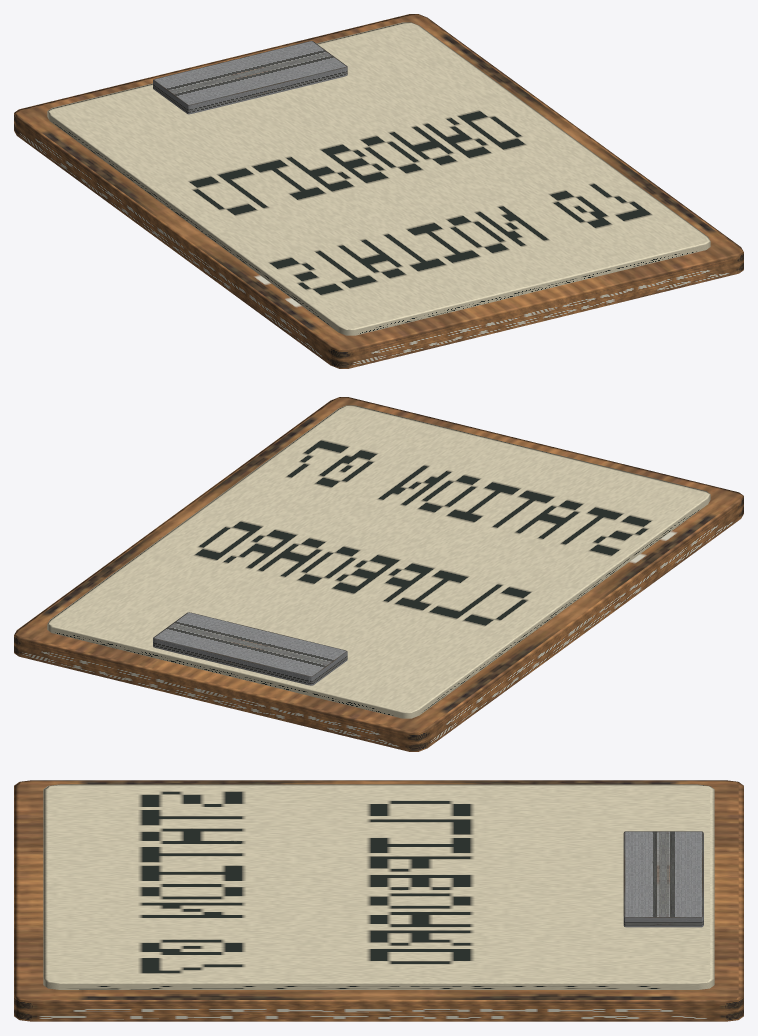
File: clipboard.glb
3 views of the same model, one above another, from view 1: azimuth 30°, elevation 25°; view 2: azimuth 150°, elevation 25°; view 3: azimuth 270°, elevation 25° (orthographic). The views are drawn at different scales.
Parts seen in each view (by area): view 1: log, board, clip; view 2: log, board, clip; view 3: log, board, clip.
Boxes of the visible parts, bbox=[...] form: log: bbox=[47, 22, 710, 335]; board: bbox=[14, 14, 743, 368]; clip: bbox=[153, 41, 347, 114]; log: bbox=[47, 405, 710, 718]; board: bbox=[14, 397, 743, 751]; clip: bbox=[153, 612, 347, 685]; log: bbox=[43, 784, 714, 989]; board: bbox=[14, 780, 743, 1021]; clip: bbox=[623, 831, 703, 927].
Bounding box in the file's own units: 0.23 × 0.018 × 0.32.
Materials: 3 (3 with a texture image).
